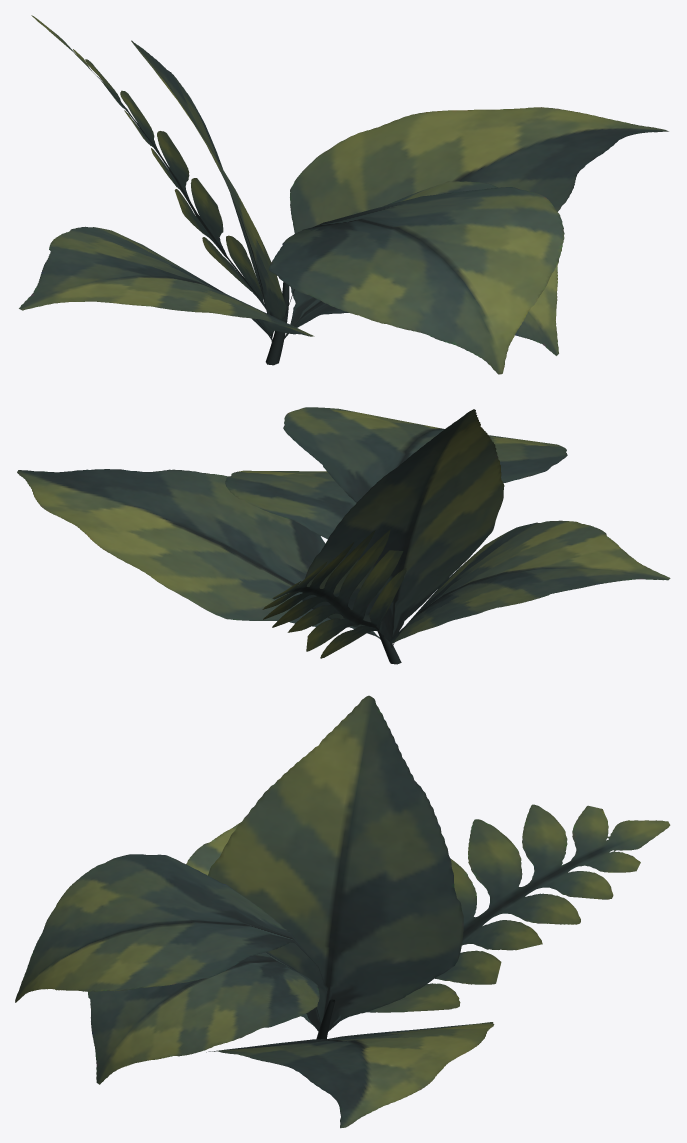
File: SM_FR_BushLowWide.fbx
The picture shows the model from 3 angles, top to bottom: view 1: azimuth 30°, elevation 25°; view 2: azimuth 150°, elevation 25°; view 3: azimuth 270°, elevation 25°; orthographic projection. The views are drawn at different scales.
Parts seen in each view (by area): view 1: SM_FR_BushLowWide; view 2: SM_FR_BushLowWide; view 3: SM_FR_BushLowWide.
Boxes of the visible parts, x1=… form: SM_FR_BushLowWide: x1=19, y1=15, x2=668, y2=374; SM_FR_BushLowWide: x1=17, y1=407, x2=670, y2=664; SM_FR_BushLowWide: x1=15, y1=695, x2=670, y2=1128.
Size of the model in its own units: 2.29 by 1.04 by 2.02.
1 material, 1 textured.
